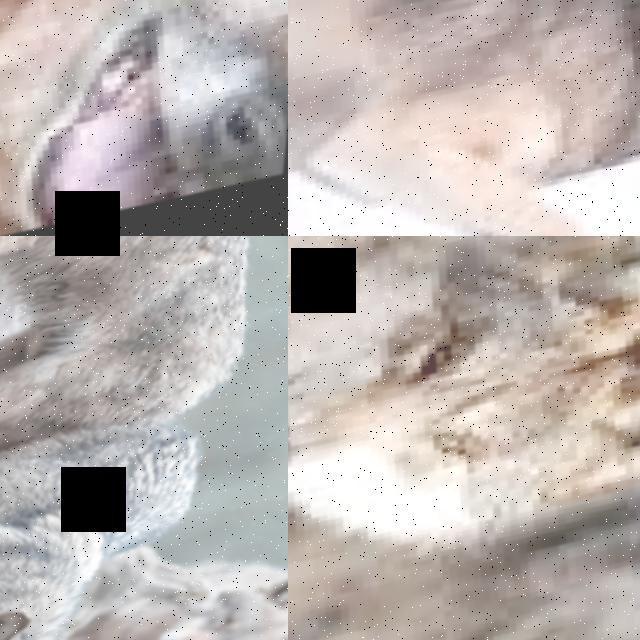dog: (288, 0, 640, 236), (0, 0, 288, 236)
wolf: (288, 236, 640, 640), (0, 236, 288, 523), (0, 405, 273, 640), (288, 468, 640, 640), (0, 518, 288, 640)
